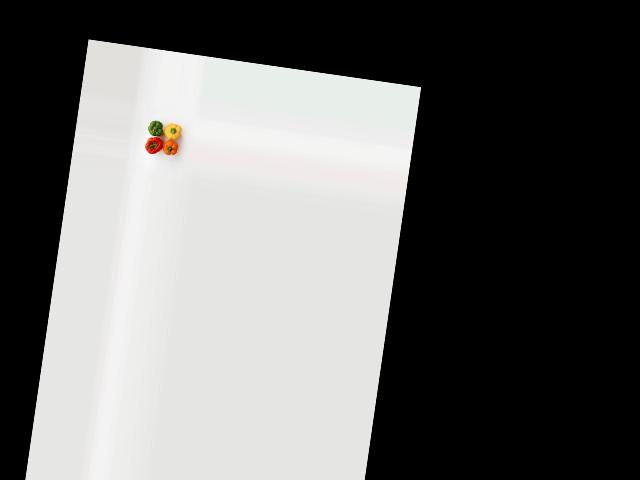bell_pepper: (145, 114, 166, 141)
